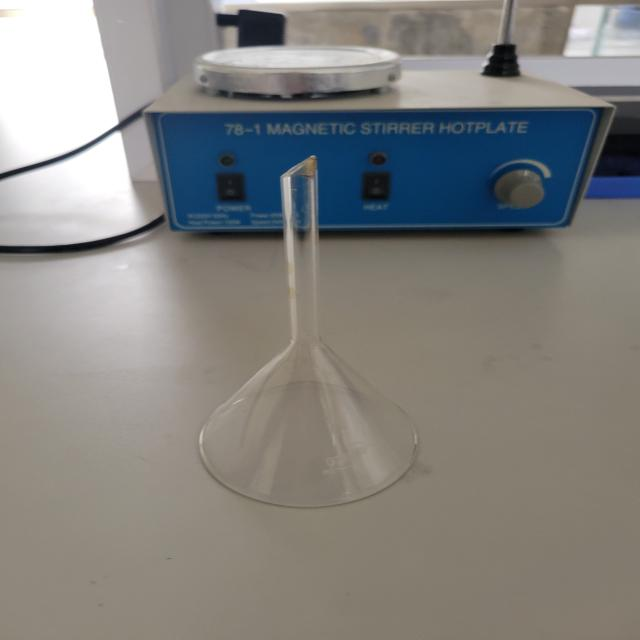Funnel: (172, 134, 460, 548)
